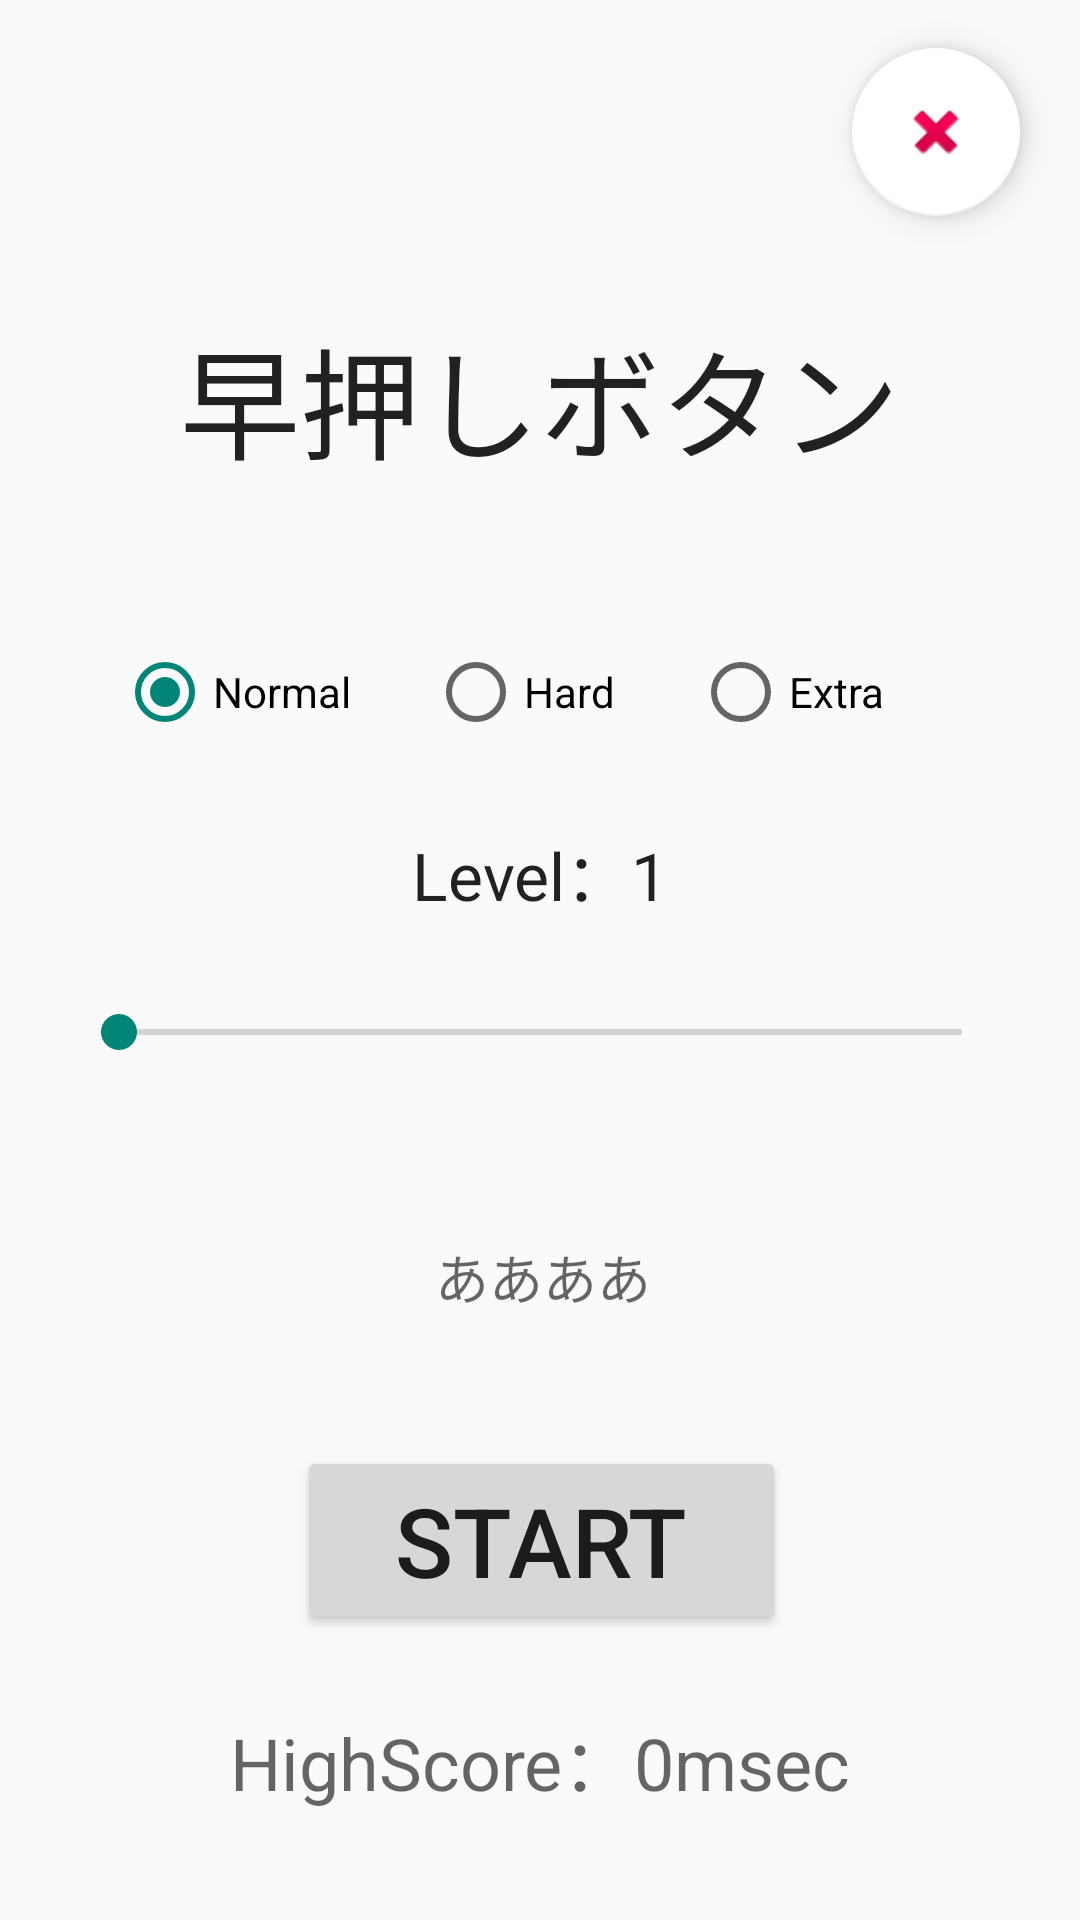

Locate icon controls on the screen. Image size 1080w x 1920h, boxes as rect(x1, y1, x2, y2).
delete: rect(852, 48, 1020, 216)
